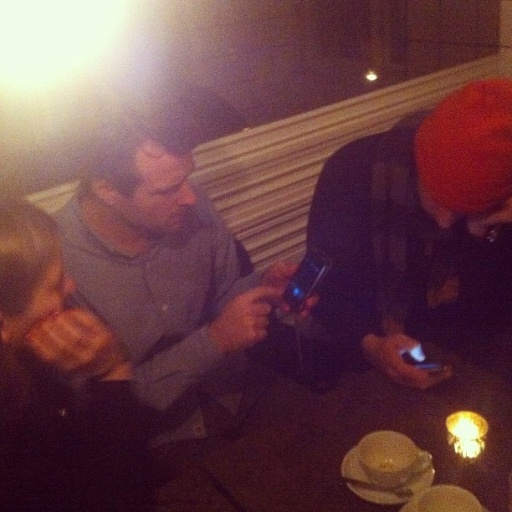hand: (196, 266, 307, 372), (23, 302, 129, 385), (369, 332, 457, 392), (256, 259, 322, 325), (464, 195, 510, 233)
